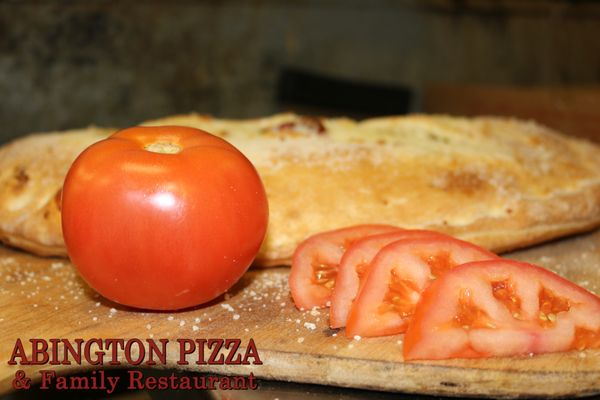steak: (59, 124, 269, 312), (0, 122, 120, 258)
